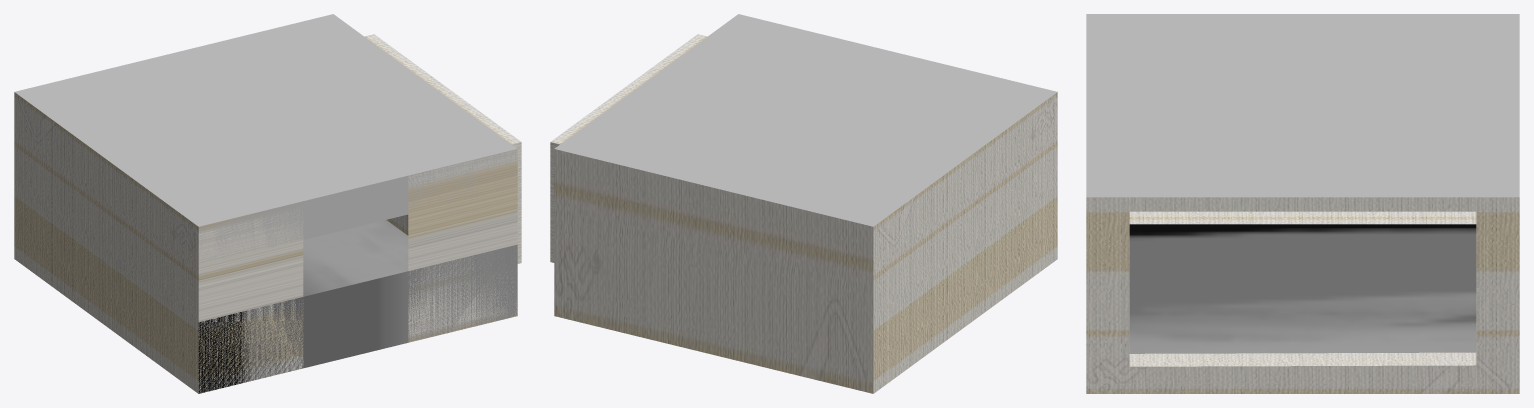
Rendered from habitacion.fbx.
3 renders of one model, left to right at view 1: azimuth 30°, elevation 25°; view 2: azimuth 150°, elevation 25°; view 3: azimuth 270°, elevation 25°, orthographic. The views are drawn at different scales.
Visible parts, largest first — view 1: Habitacion; view 2: Habitacion; view 3: Habitacion.
Part boxes in pixels (x1,y1,x2,y2): Habitacion: (14,14,521,393); Habitacion: (550,14,1057,393); Habitacion: (1086,14,1519,393).
Bounding box in the file's own units: 523 × 245 × 489.
